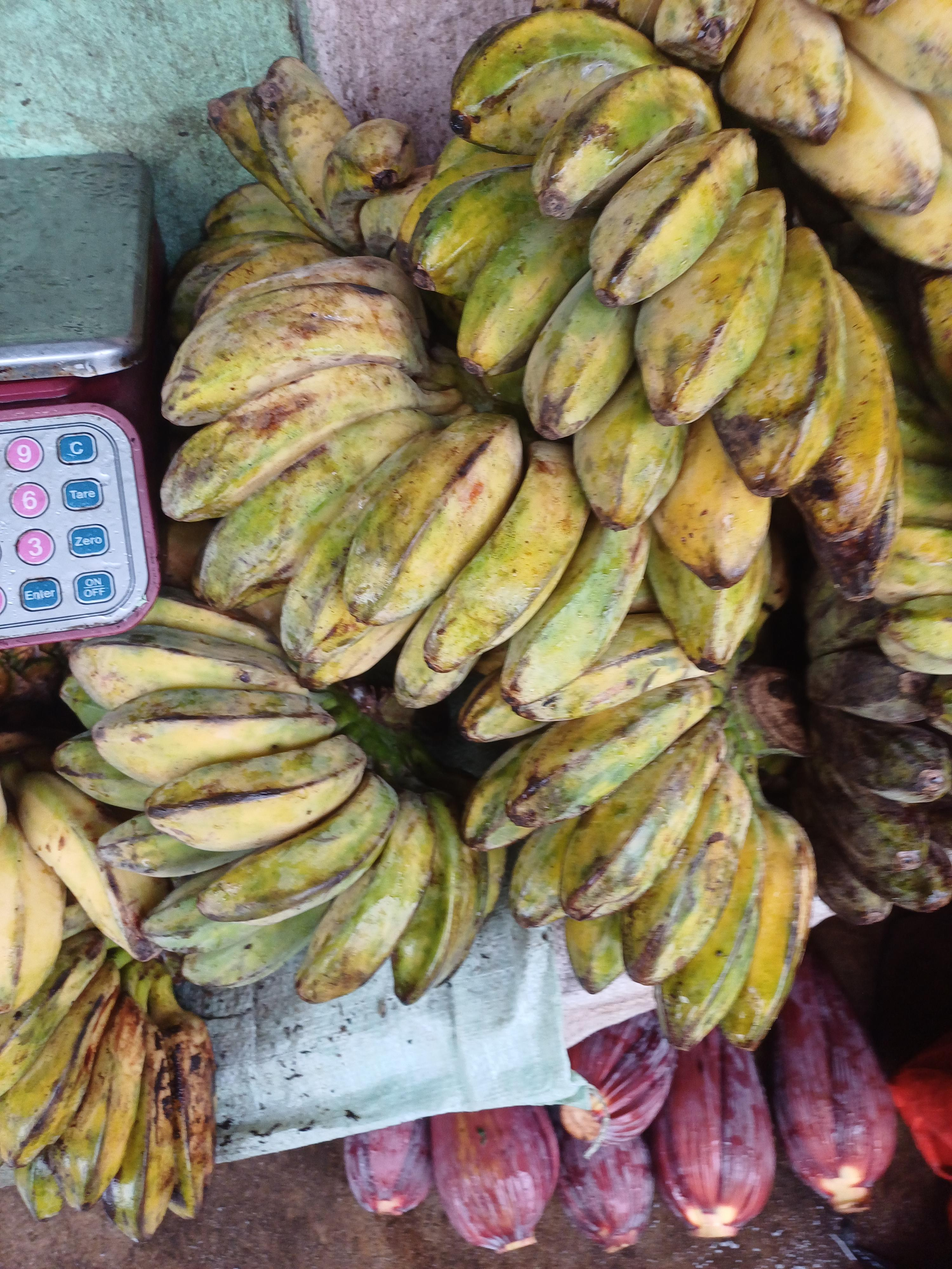ripe: (654, 0, 952, 271)
underripe: (399, 10, 901, 667), (161, 258, 648, 707), (54, 597, 504, 1004), (459, 614, 816, 1049), (0, 931, 215, 1239), (790, 571, 952, 924), (208, 57, 433, 256), (170, 183, 337, 342), (874, 388, 952, 674)
